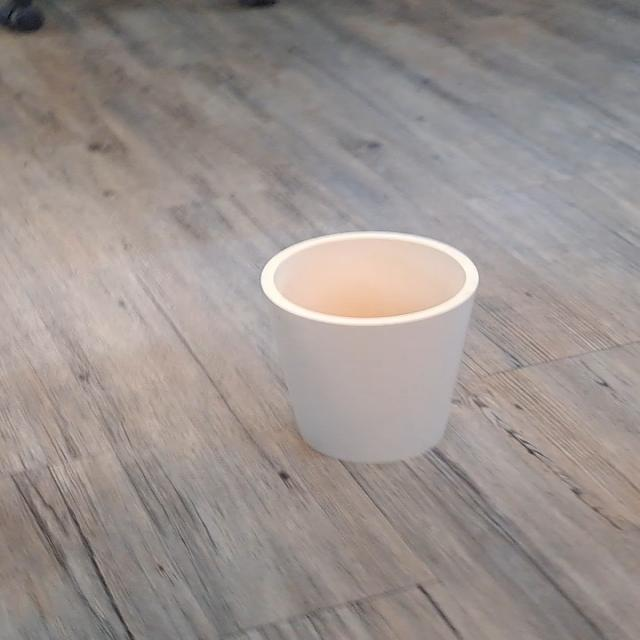CORAL: (208, 205, 492, 493)
